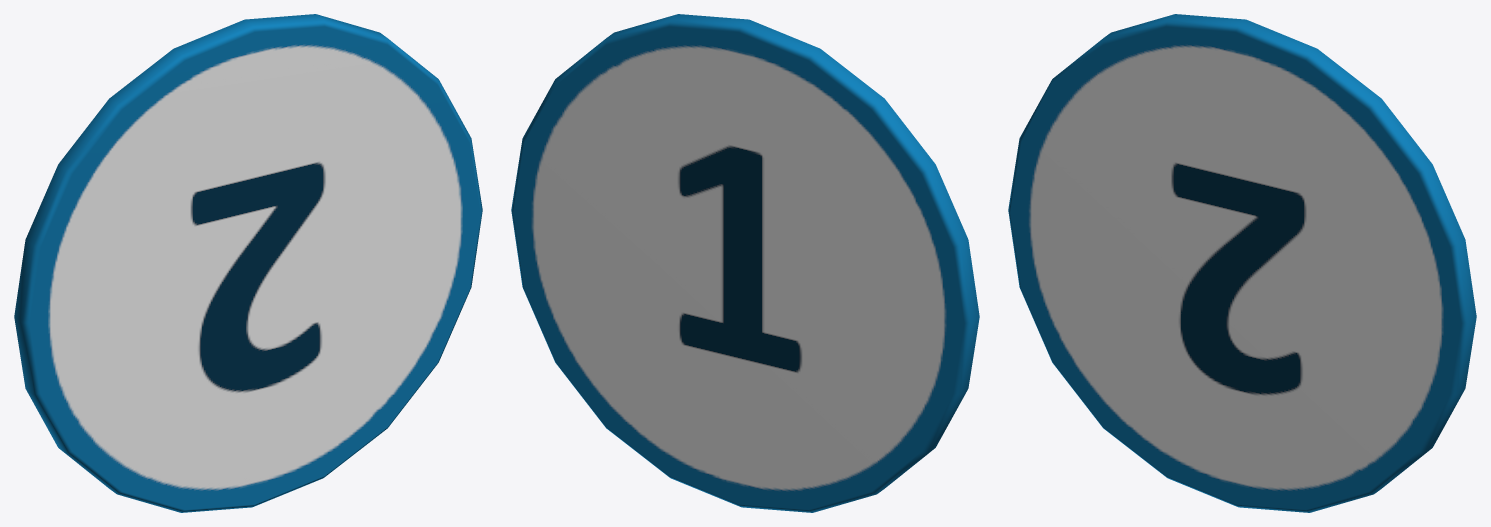
3 views of the same model, side by side, from view 1: azimuth 30°, elevation 25°; view 2: azimuth 150°, elevation 25°; view 3: azimuth 330°, elevation 25° (orthographic).
Parts seen in each view (by area): view 1: Mesh_0; view 2: Mesh_0; view 3: Mesh_0.
Boxes of the visible parts, bbox=[...] form: Mesh_0: bbox=[14, 14, 482, 512]; Mesh_0: bbox=[511, 14, 979, 512]; Mesh_0: bbox=[1008, 14, 1476, 512].
Bounding box in the file's own units: 182 × 182 × 9.11.
Materials: 1 (1 with a texture image).
